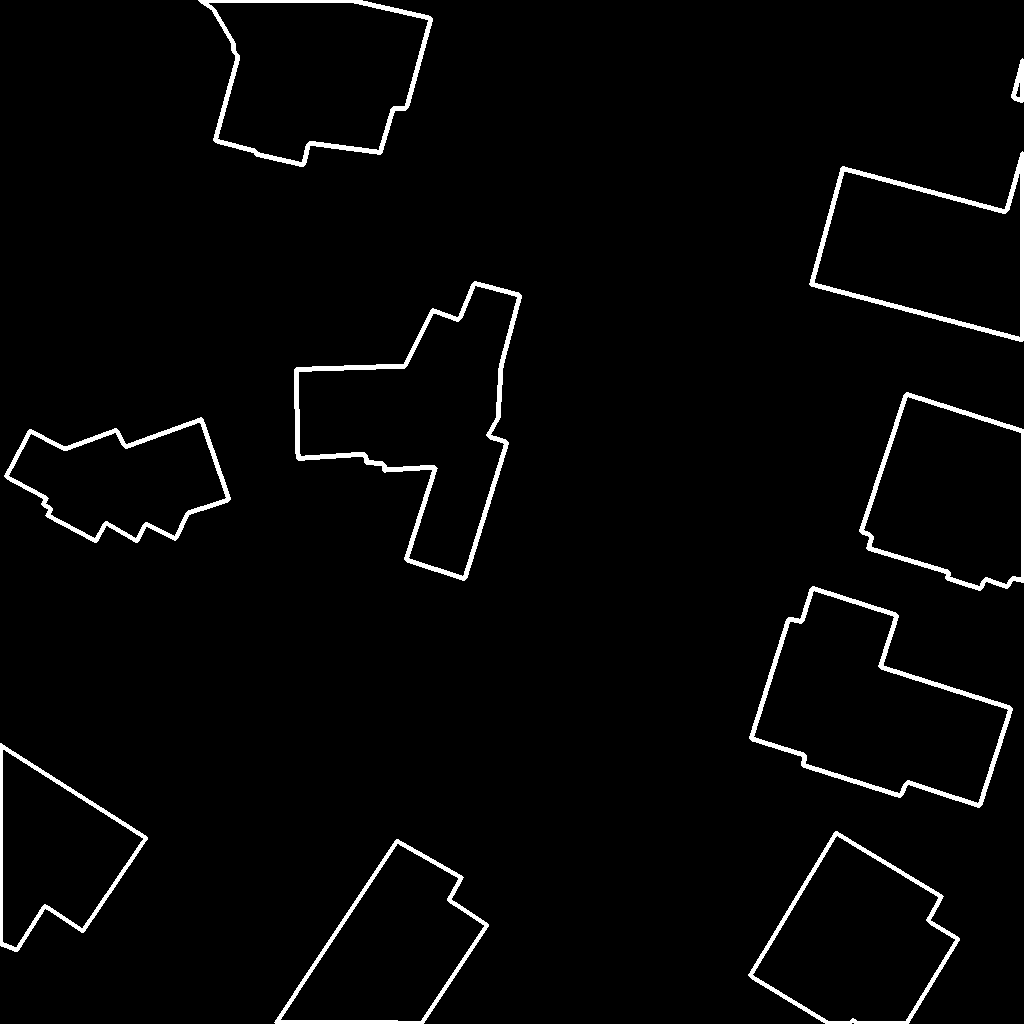building: (296, 283, 521, 580), (811, 59, 1024, 341), (751, 588, 1012, 807), (750, 833, 959, 1024), (276, 841, 488, 1024), (199, 0, 432, 166), (861, 394, 1024, 590), (0, 745, 147, 951), (6, 419, 230, 542)
